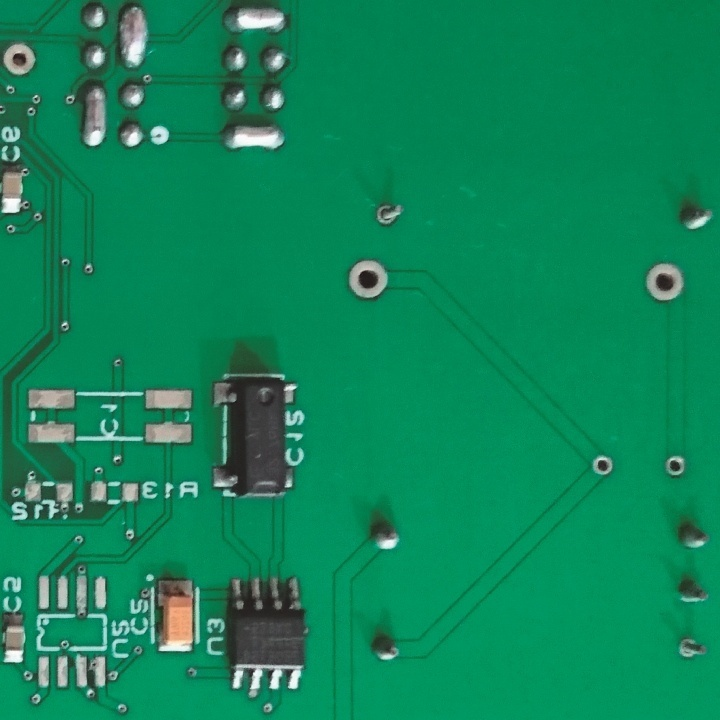F: (344, 258, 393, 301), (641, 260, 686, 304), (1, 38, 41, 78), (374, 198, 406, 232), (673, 633, 708, 663), (590, 450, 616, 481), (664, 451, 686, 483)
P: (219, 1, 291, 41), (116, 1, 152, 73), (218, 120, 289, 156), (79, 83, 109, 149)
